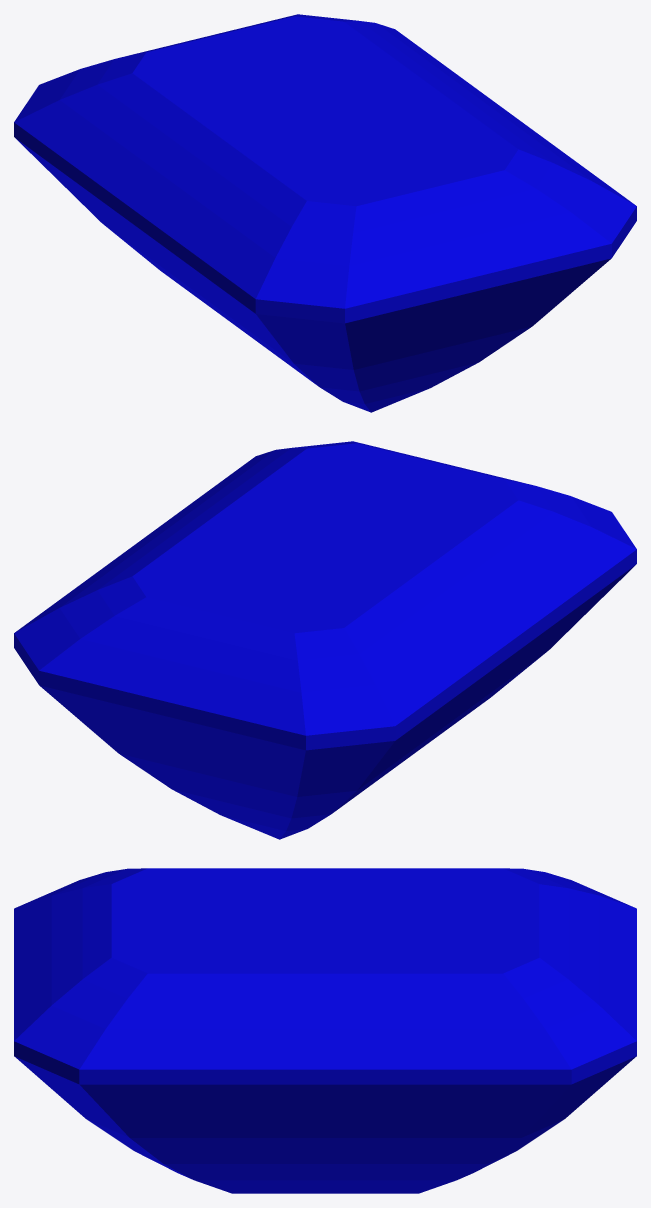
Rendered from Head_Single Halo_Emerald_0.75ct_Diamond.glb.
3 views of the same model, one above another, from view 1: azimuth 30°, elevation 25°; view 2: azimuth 150°, elevation 25°; view 3: azimuth 270°, elevation 25° (orthographic).
Size of the model in its own units: 0.00447 by 0.003 by 0.00621.
